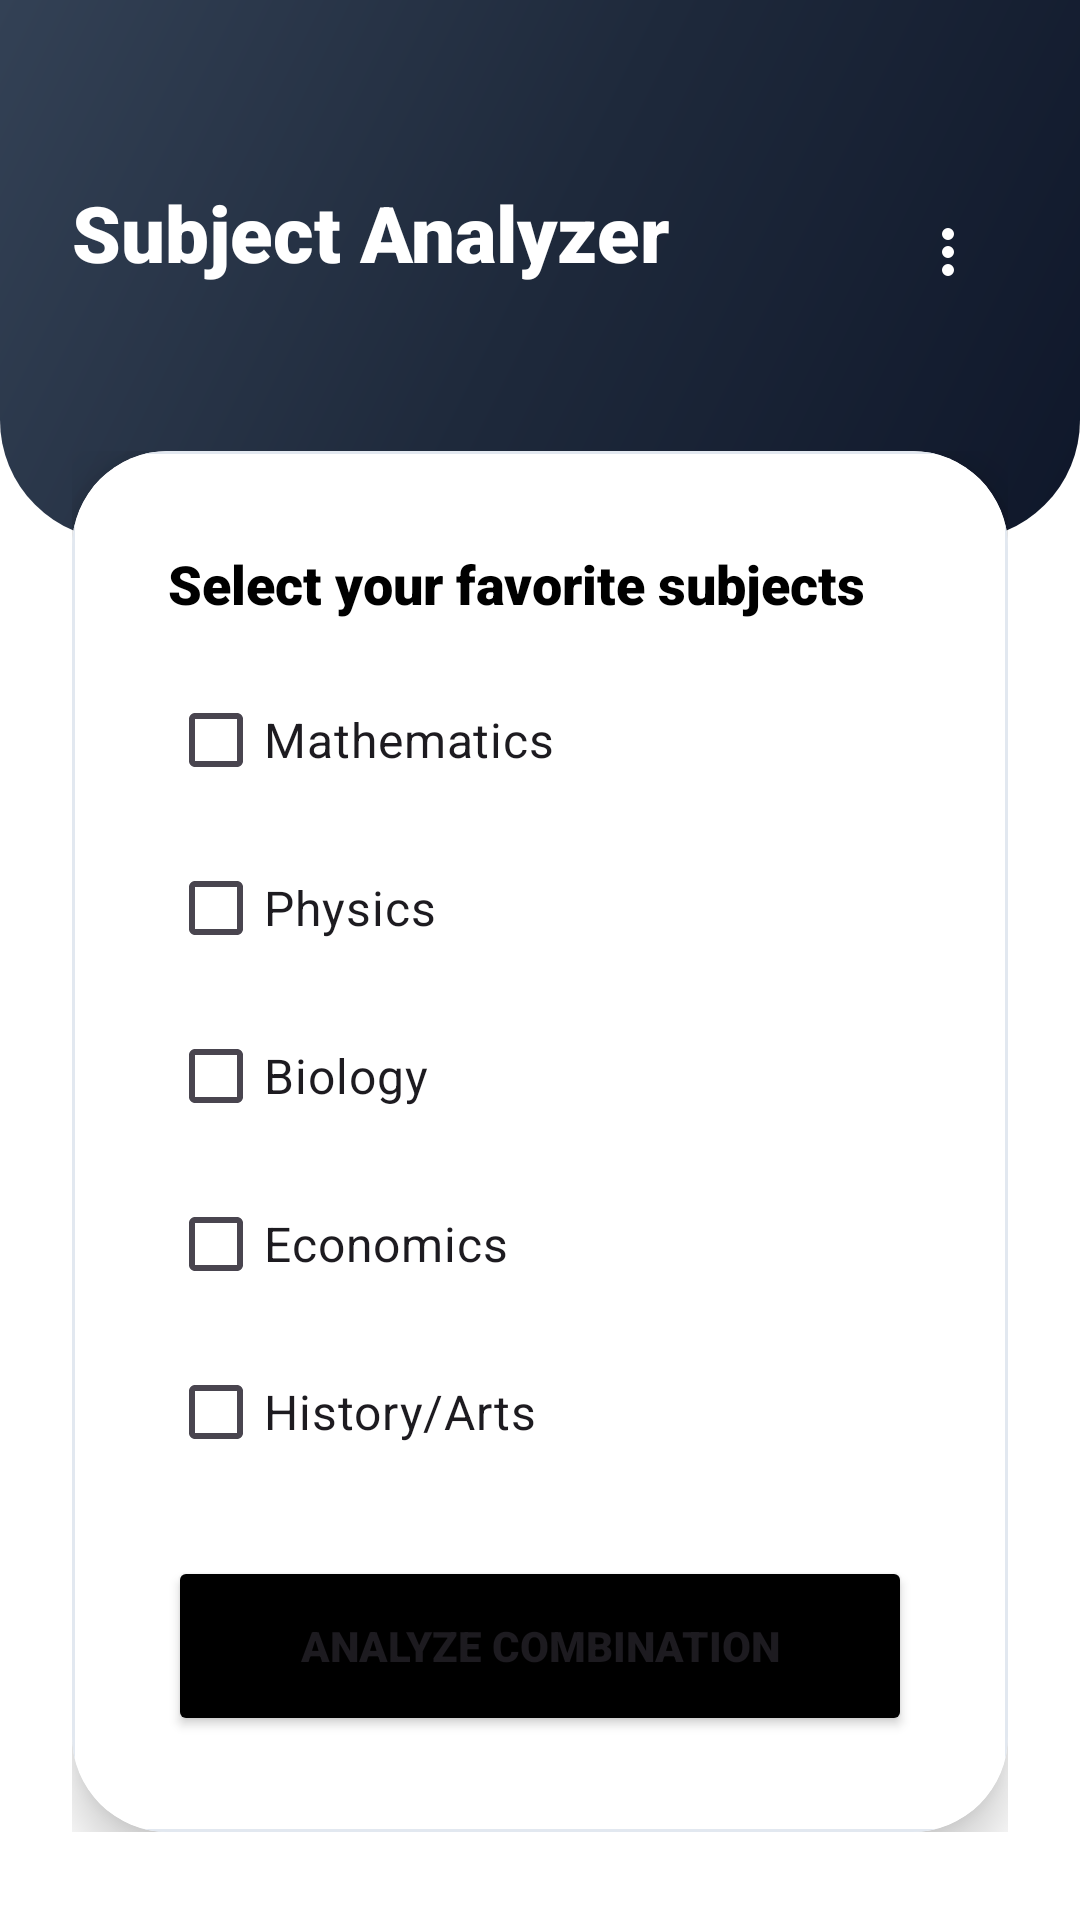

Icon click points for this 1080px×1920px phone screenshot, format (x,y):
Menu: (948,252)
